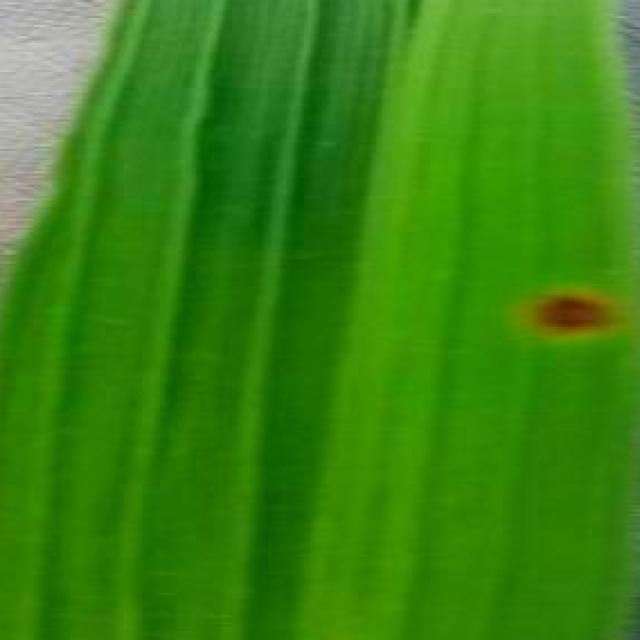Brown_Spot: (502, 257, 638, 365)
